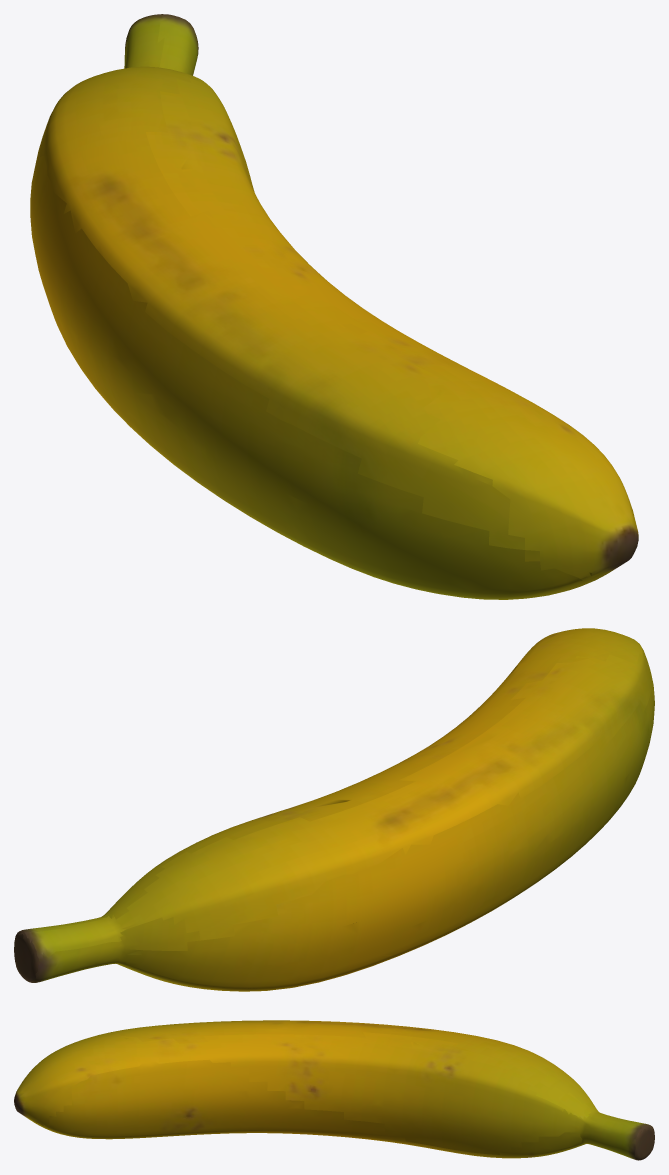
Rendered from food_produce_banana_c01.glb.
3 renders of one model, top to bottom at view 1: azimuth 30°, elevation 25°; view 2: azimuth 150°, elevation 25°; view 3: azimuth 270°, elevation 25°, orthographic. The views are drawn at different scales.
Visible parts, largest first — view 1: part0; view 2: part0; view 3: part0.
Part boxes in pixels (left/top/right/bottom): part0: left=30, top=14, right=638, bottom=599; part0: left=14, top=628, right=654, bottom=991; part0: left=14, top=1020, right=654, bottom=1160.
Size of the model in its own units: 0.063 by 0.0309 by 0.18.
1 material, 1 textured.
